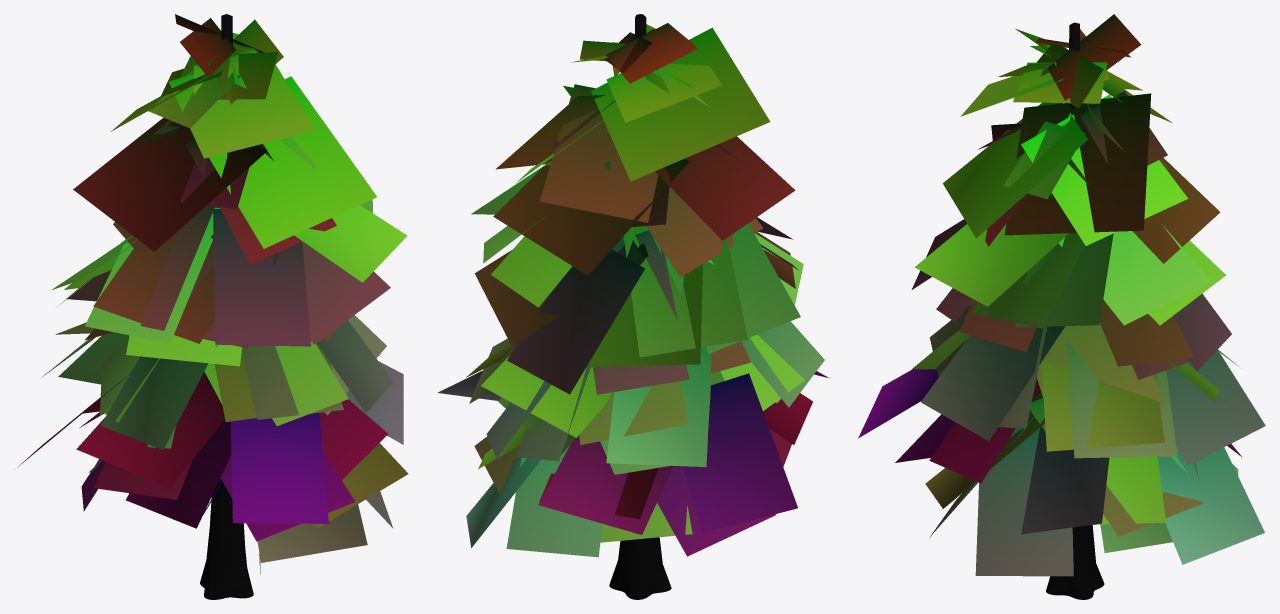
File: M_Pine_4_19.fbx
3 views of the same model, side by side, from view 1: azimuth 30°, elevation 25°; view 2: azimuth 150°, elevation 25°; view 3: azimuth 270°, elevation 25° (orthographic).
Parts seen in each view (by area): view 1: Tree_19; view 2: Tree_19; view 3: Tree_19.
Boxes of the visible parts, box(x1,y1,x2,y2) form: Tree_19: box(17, 14, 408, 599); Tree_19: box(437, 14, 829, 599); Tree_19: box(858, 14, 1265, 599).
Bounding box in the file's own units: 990 × 1447 × 947.
